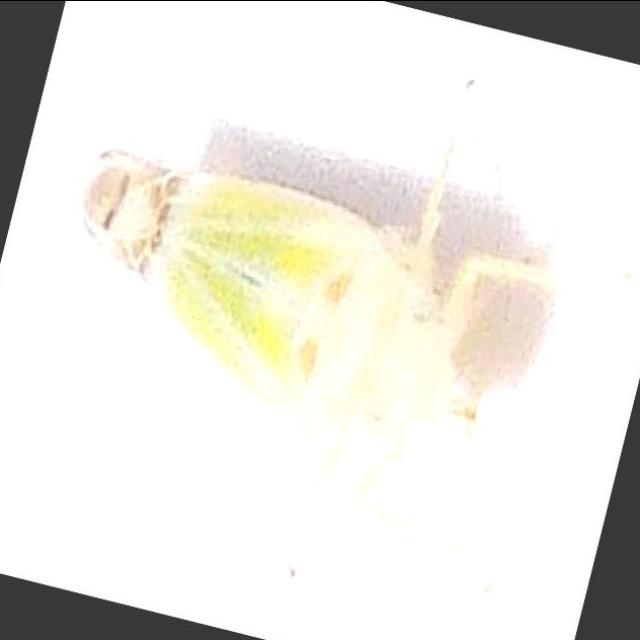green leaf hopper: (84, 140, 552, 498)
